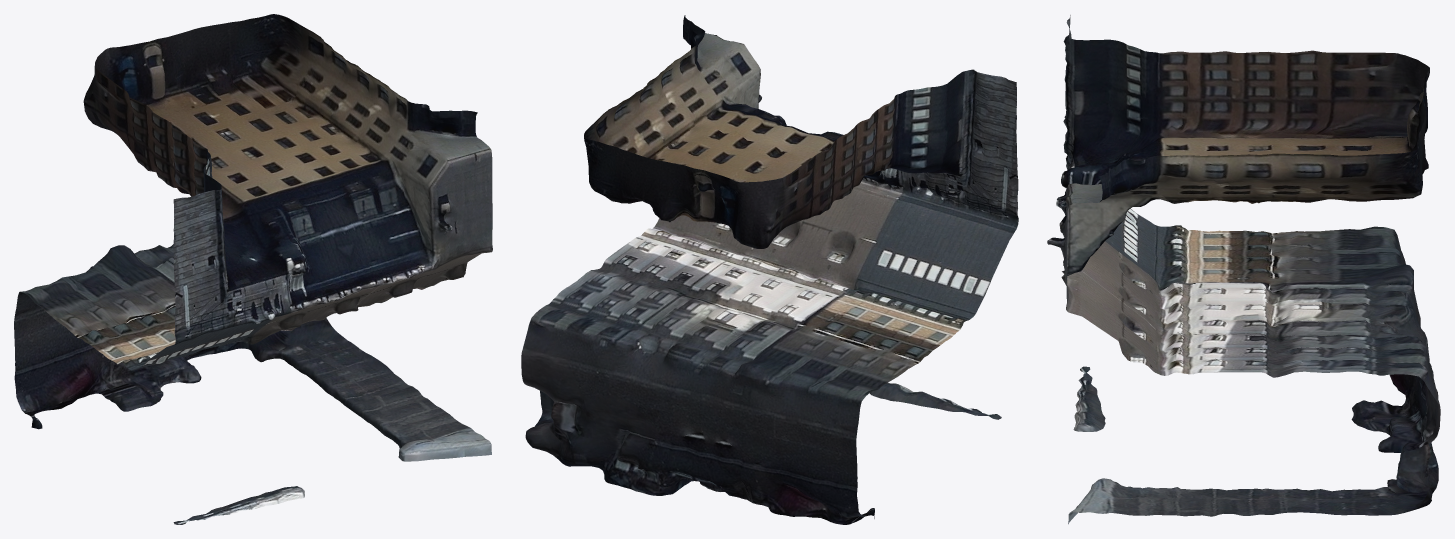
File: Tile_+029_+018_L21_0001200.fbx
3 views of the same model, side by side, from view 1: azimuth 30°, elevation 25°; view 2: azimuth 150°, elevation 25°; view 3: azimuth 270°, elevation 25° (orthographic). The views are drawn at different scales.
Visible parts, largest first — view 1: DefaultName; view 2: DefaultName; view 3: DefaultName.
Part boxes in pixels (x1,y1,x2,y2): DefaultName: (14,14,492,524); DefaultName: (521,15,1018,524); DefaultName: (1047,15,1440,524).
Bounding box in the file's own units: 31.38 × 31.38 × 32.11.
1 material, 1 textured.
